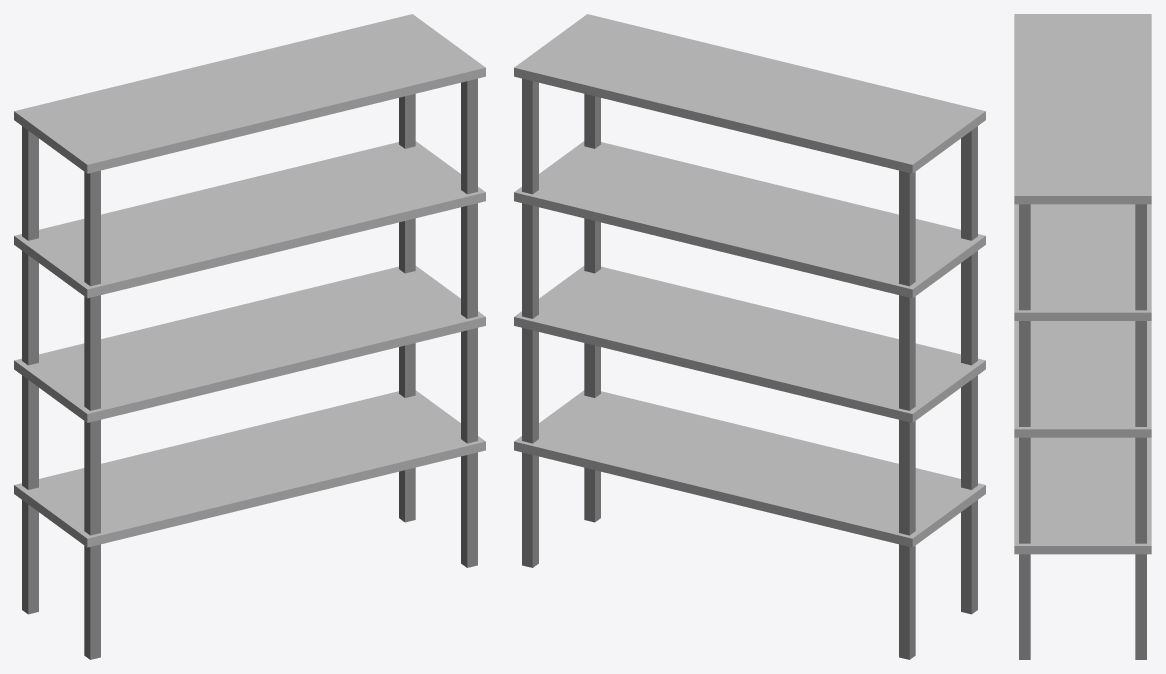
The model's file is estante.fbx.
The picture shows the model from 3 angles, left to right: view 1: azimuth 30°, elevation 25°; view 2: azimuth 150°, elevation 25°; view 3: azimuth 270°, elevation 25°; orthographic projection. The views are drawn at different scales.
Parts seen in each view (by area): view 1: Estante; view 2: Estante; view 3: Estante.
Part boxes in pixels (x1,y1,x2,y2): Estante: (14,14,485,659); Estante: (514,14,985,659); Estante: (1014,14,1151,659).
Bounding box in the file's own units: 233 × 278 × 74.31.
